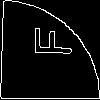F: (25, 25, 73, 57)
